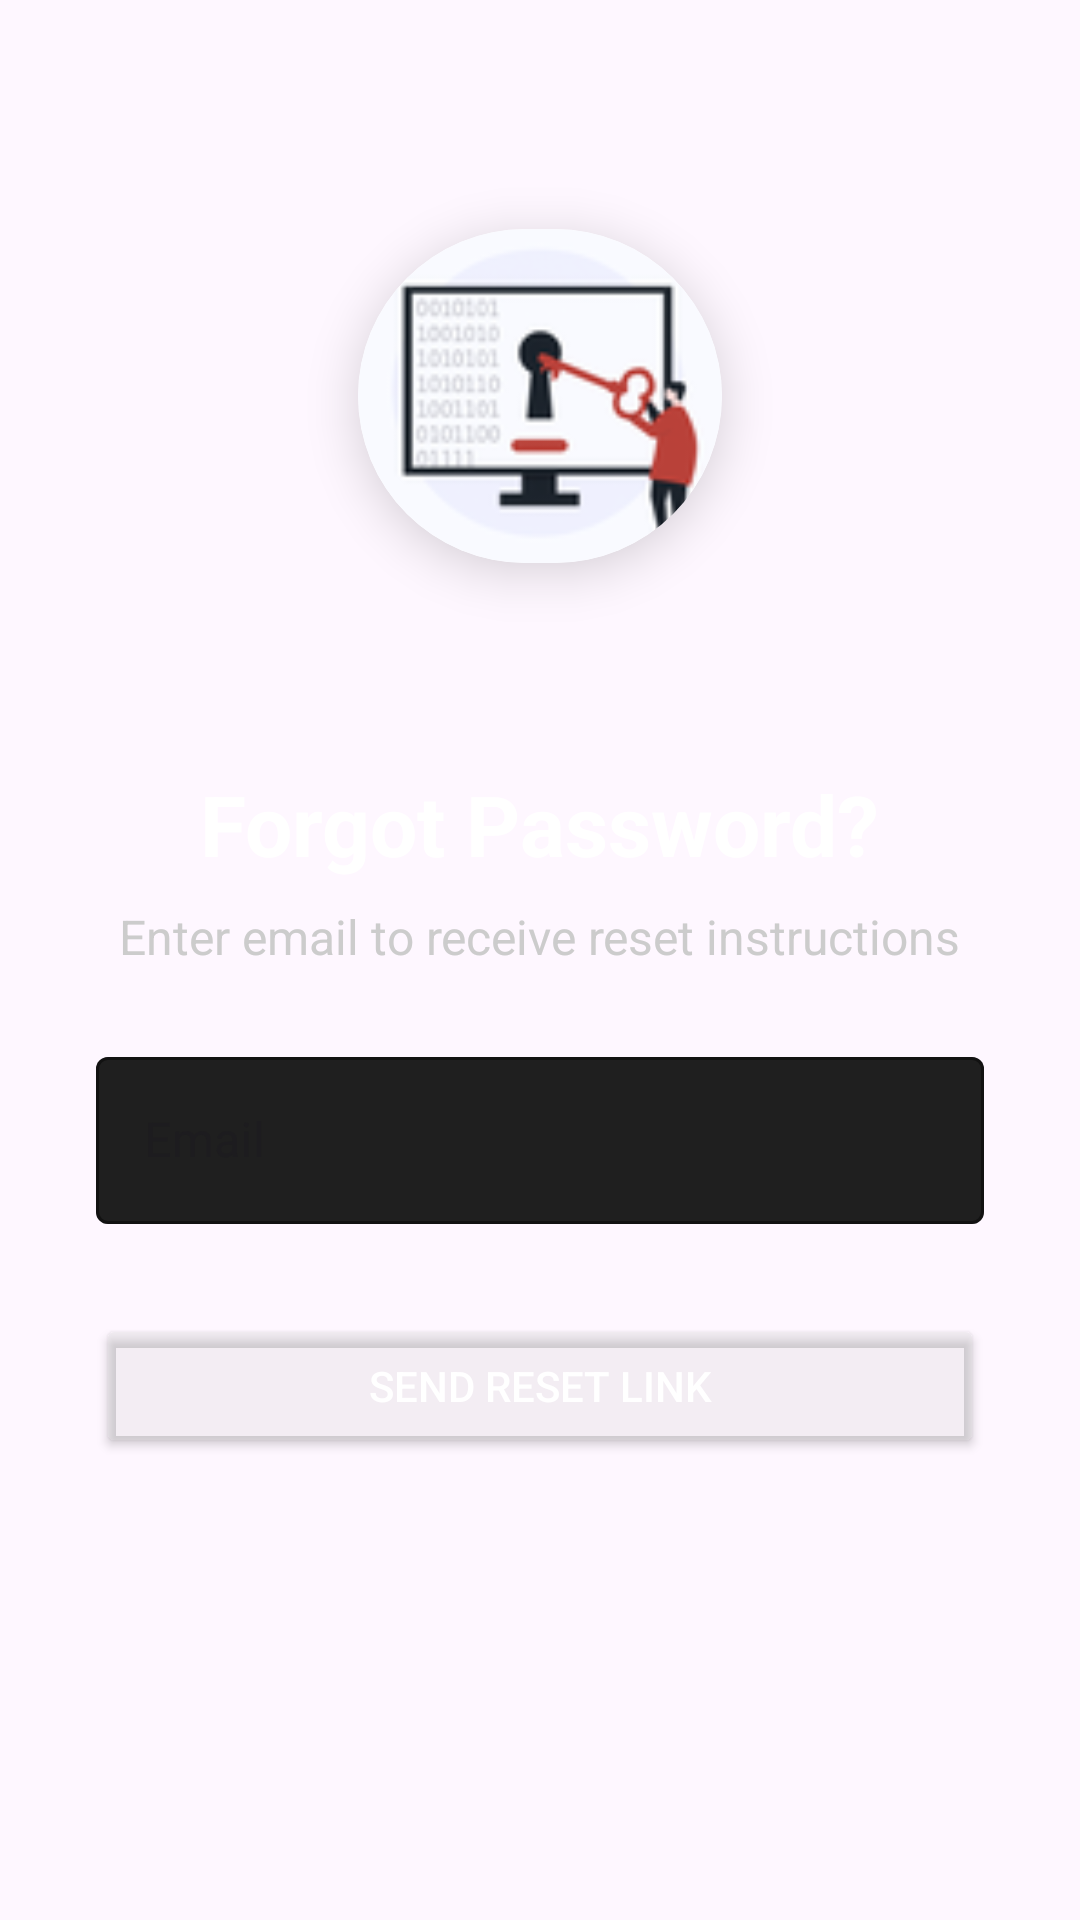

Screen size 1080px x 1920px. Icon name, then its center in pixels as [x,y]:
Forgot Password Image: [550,423]
